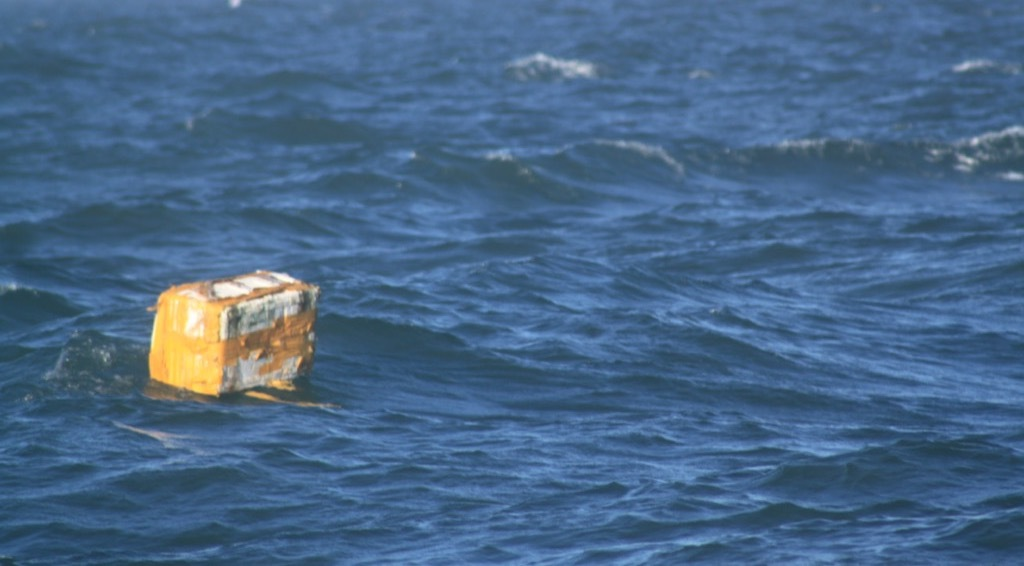plastic: (116, 235, 353, 486)
